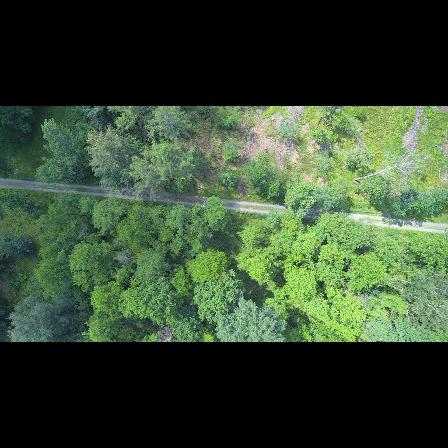Dead: (355, 151, 429, 182)
